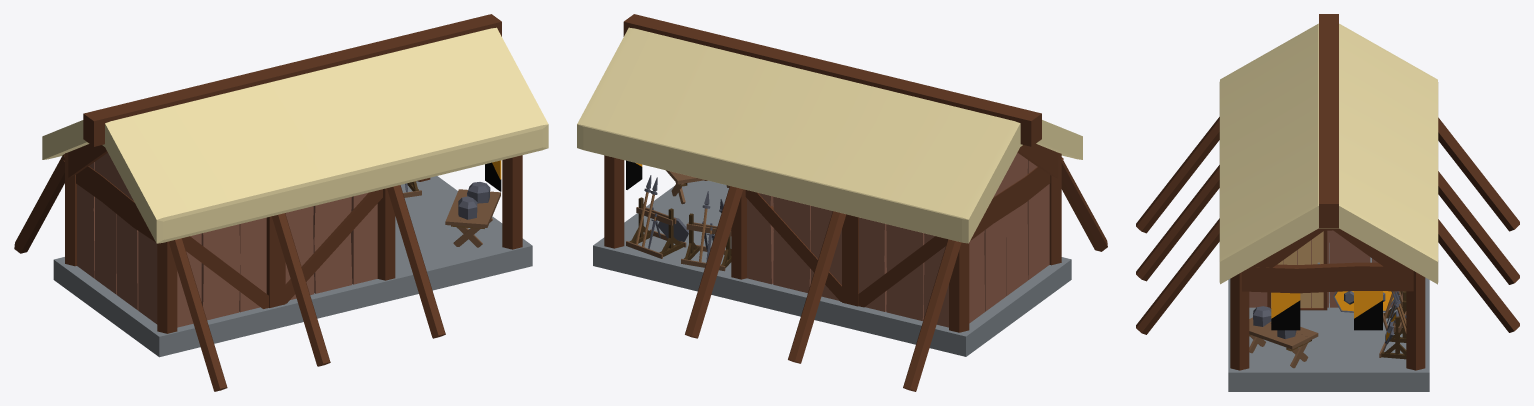
File: medieval_village_barracks.fbx
The picture shows the model from 3 angles, left to right: view 1: azimuth 30°, elevation 25°; view 2: azimuth 150°, elevation 25°; view 3: azimuth 270°, elevation 25°; orthographic projection. The views are drawn at different scales.
Parts seen in each view (by area): view 1: medieval_village_barracks; view 2: medieval_village_barracks; view 3: medieval_village_barracks.
Part boxes in pixels (x1,y1,x2,y2): medieval_village_barracks: [14, 14, 548, 391]; medieval_village_barracks: [577, 14, 1107, 391]; medieval_village_barracks: [1136, 14, 1519, 391].
Bounding box in the file's own units: 664 × 330 × 567.
